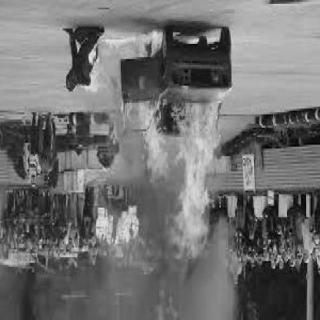Fire: (118, 30, 234, 257), (82, 36, 118, 104)
